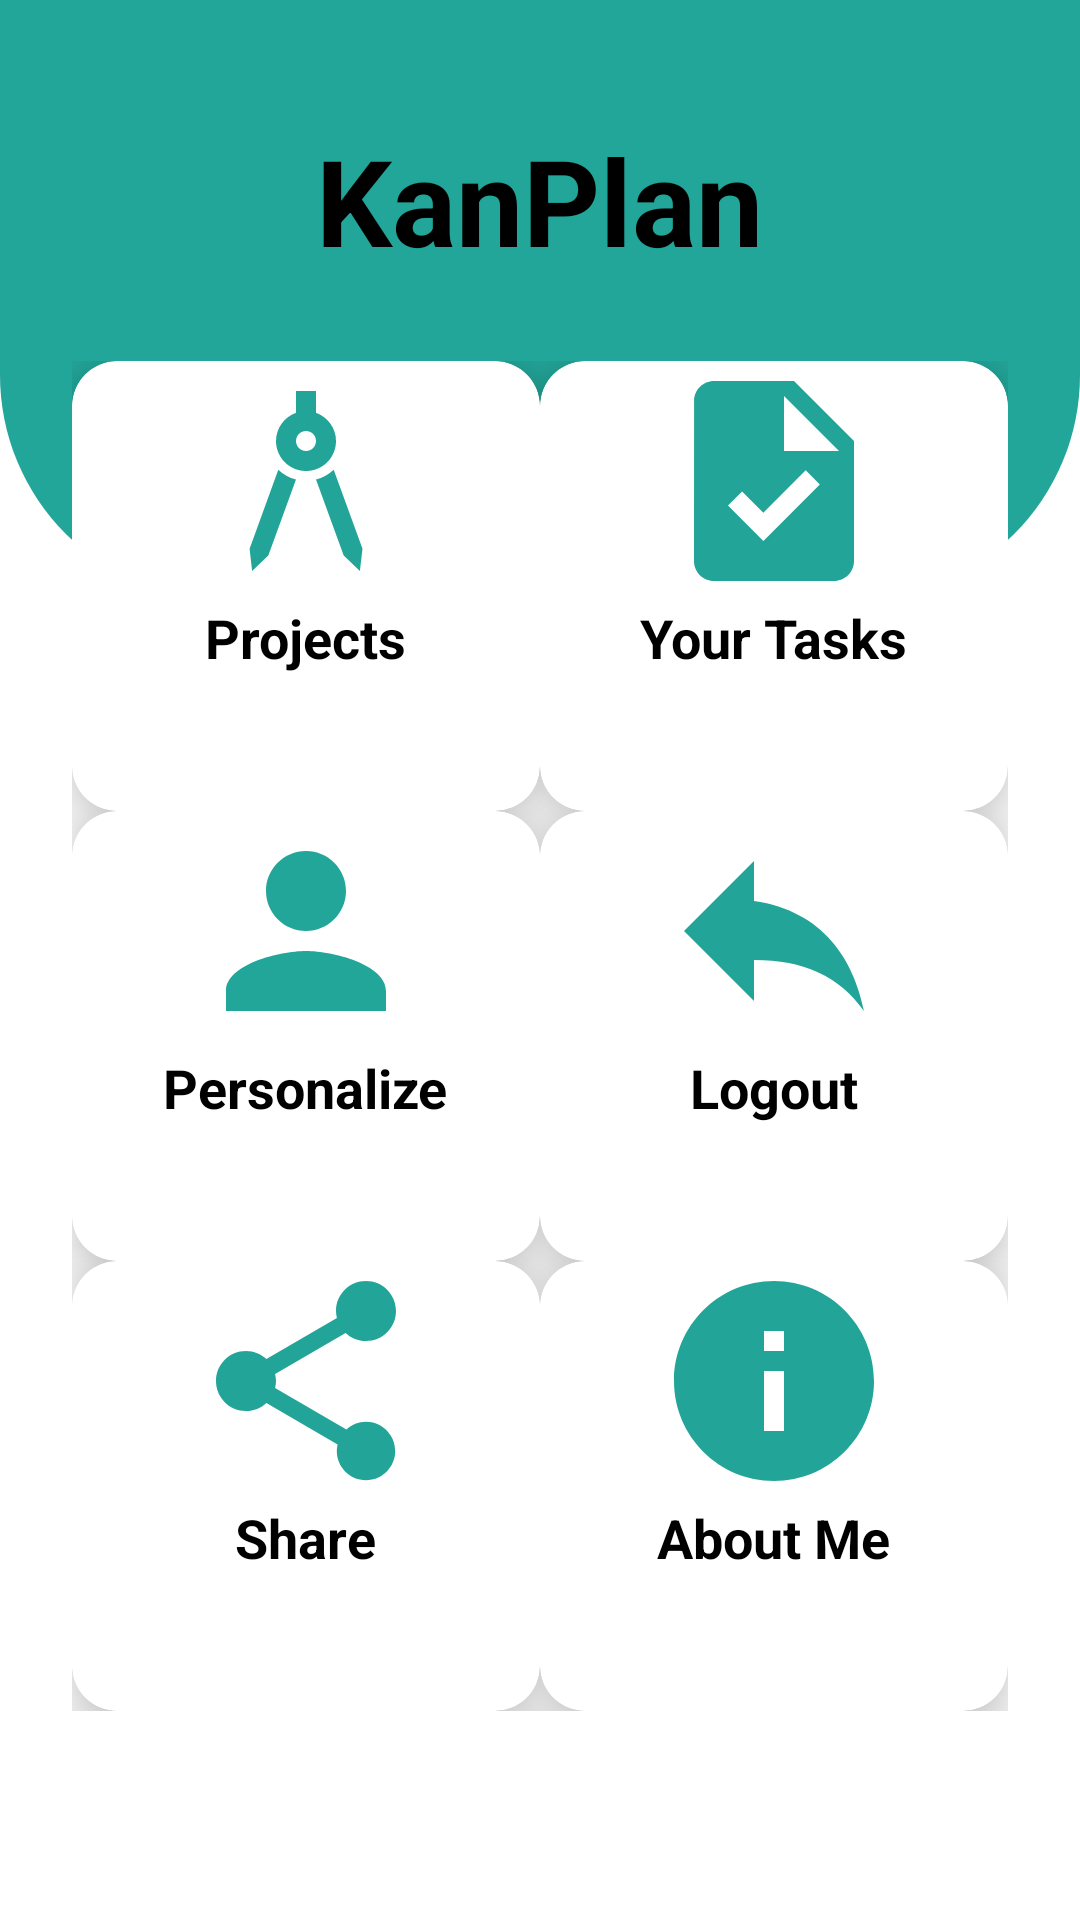

Where icons sit on this 1080×1920 app screen, as (x1, y1, x2, y2):
architecture: (249, 391, 363, 571)
info: (674, 1281, 874, 1481)
reply: (684, 861, 864, 1011)
